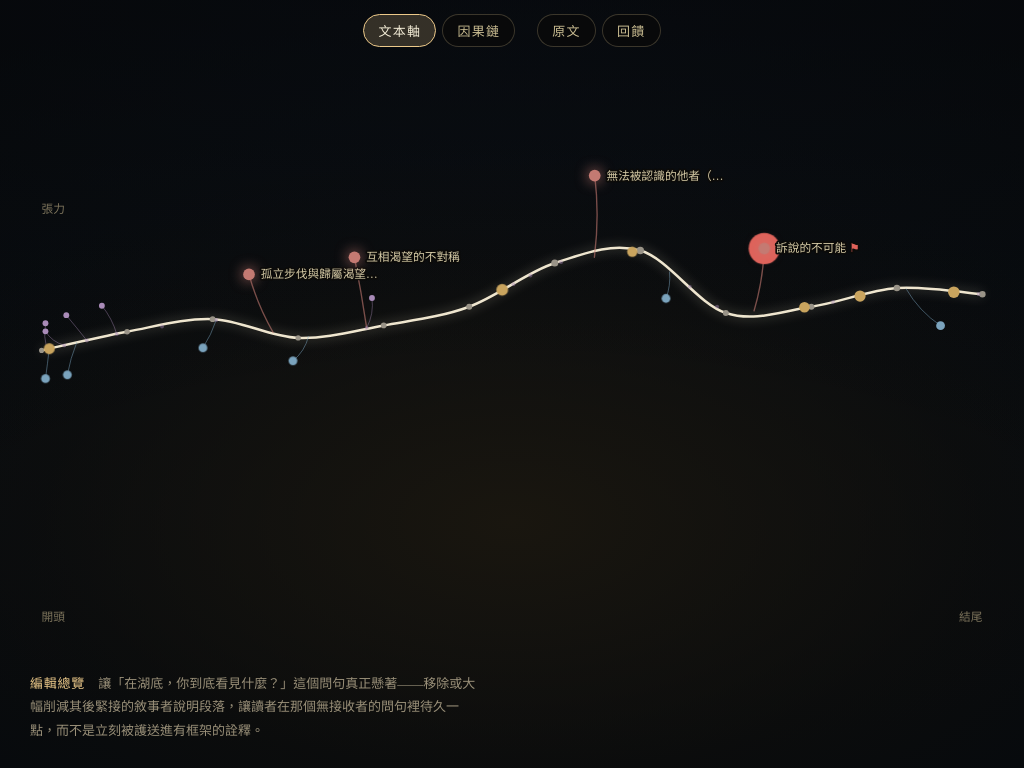
Test: 回饋頁 › 判斷內文/證據/枝節直接可讀
The width and height of the screenshot is (1024, 768).
Expected: the element with class "sb-bar" is shown, [364,14,660,47]
Click the button "回饋" at {"x": 631, "y": 30}, box [602,14,660,47]
(page scrolled)
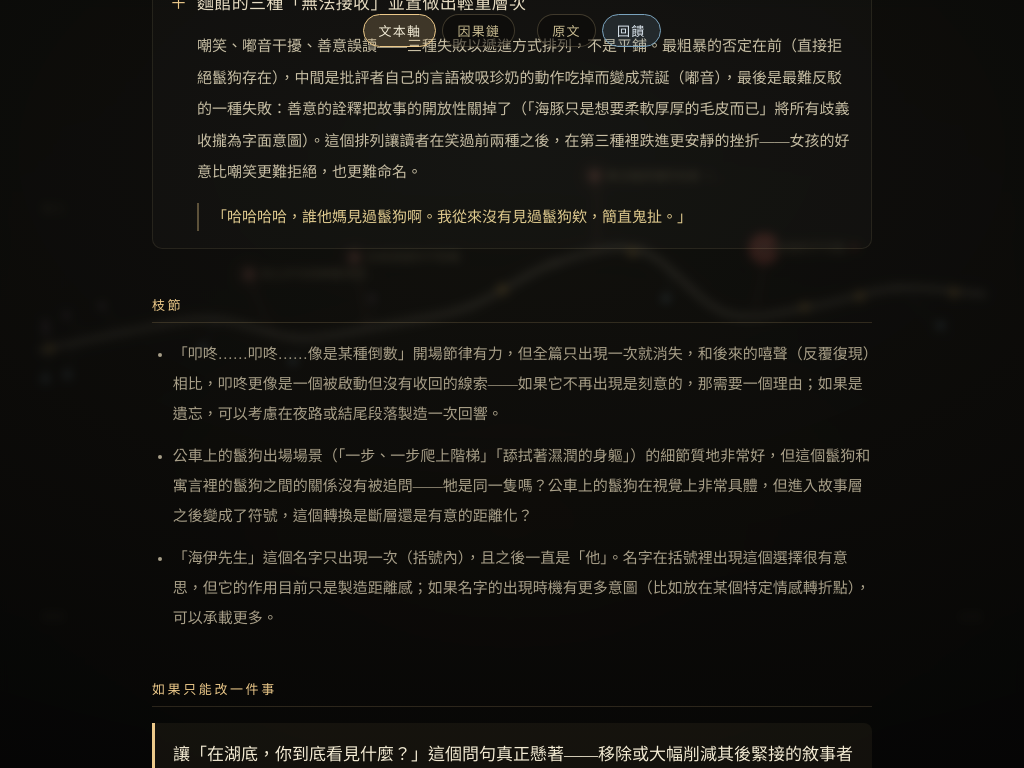
Expected: the list item "「叩咚……叩咚……像是某種倒數」開場節律有力，但全篇只出現一次就消失，和後來的嘻聲（反覆復現）相比，叩咚更像是一個被啟動但沒有收回的線索——如果它不再出現是刻意的，那需要一個理由；如果是遺忘，可以考慮在夜路或結尾段落製造一次回響。" is shown, [173,346,870,422]
